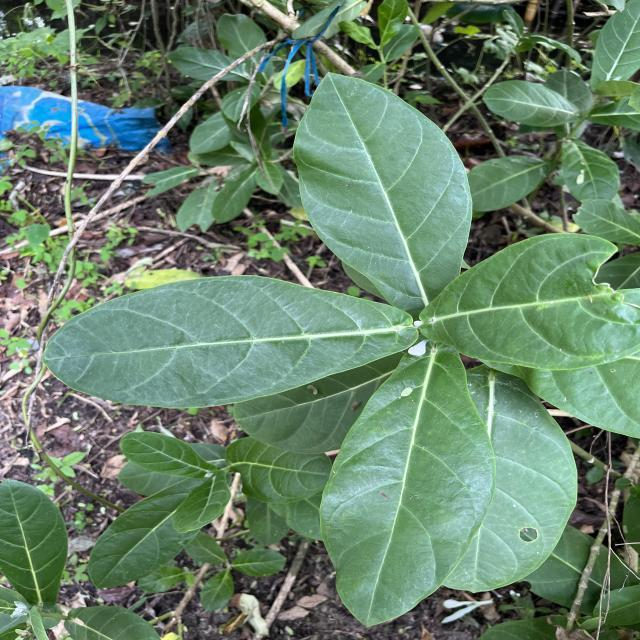Calotropis gigantea: (317, 338, 498, 630), (40, 272, 422, 410), (292, 67, 474, 308), (462, 363, 582, 596), (86, 476, 202, 590), (0, 478, 70, 608), (468, 154, 556, 214), (120, 430, 218, 480), (480, 80, 582, 128), (589, 0, 640, 90), (560, 138, 622, 202)
